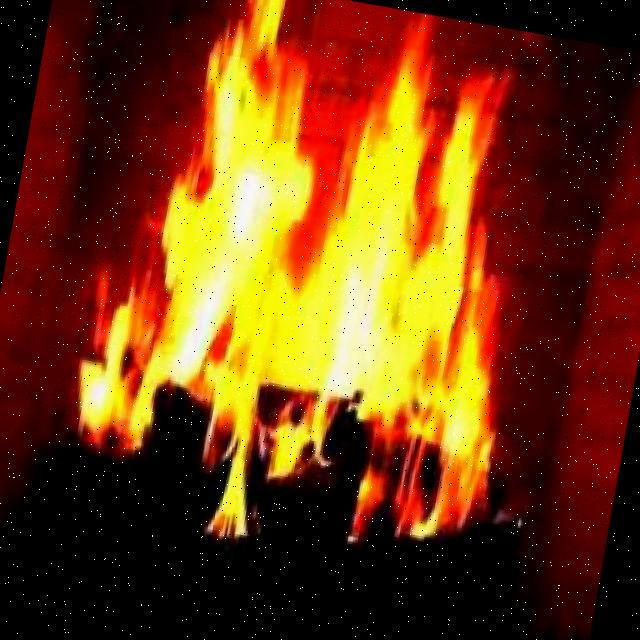Fire: (89, 0, 519, 500)
